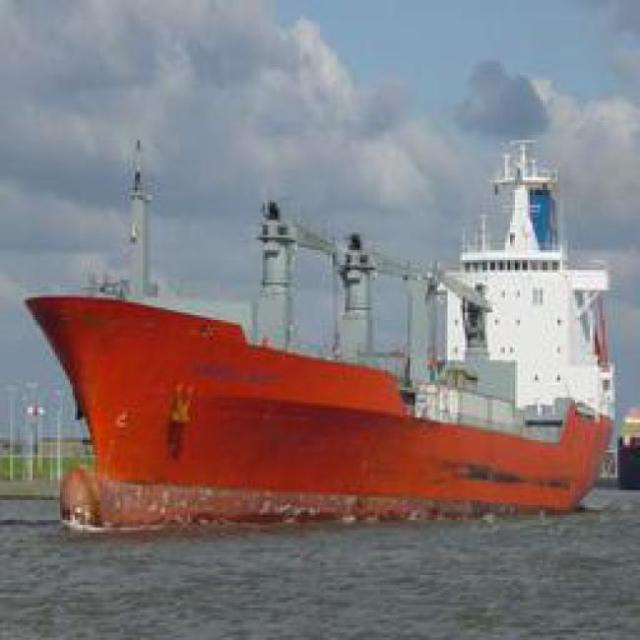boat: (20, 267, 612, 529)
